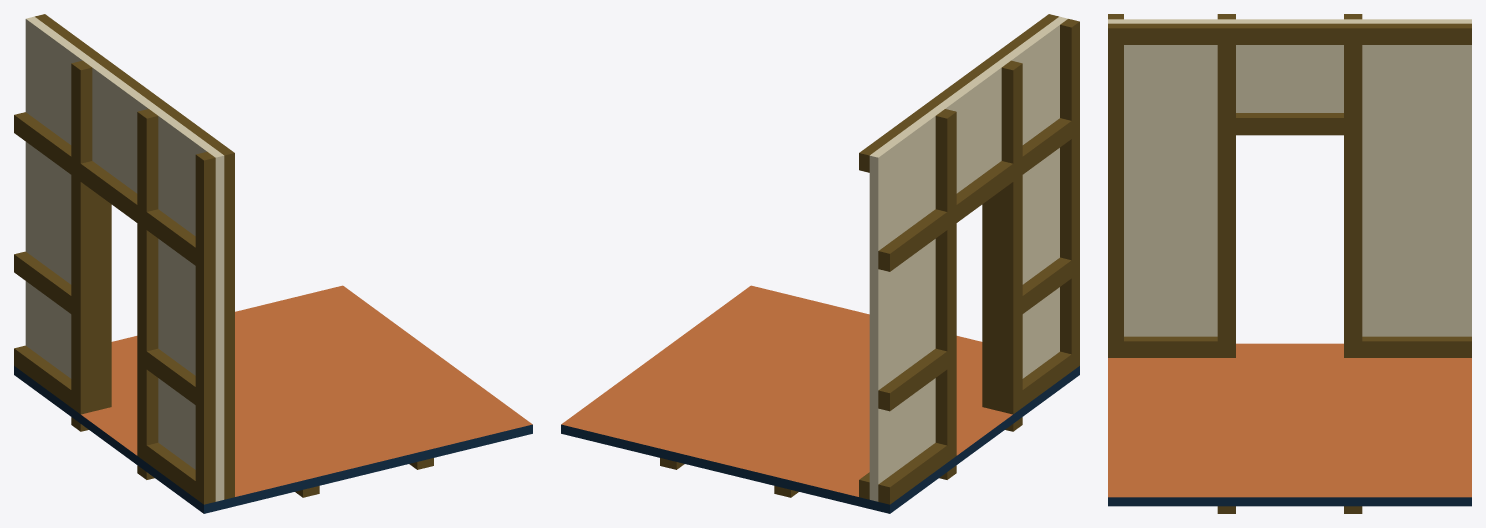
Rendered from DoorwayWF.fbx.
The picture shows the model from 3 angles, left to right: view 1: azimuth 30°, elevation 25°; view 2: azimuth 150°, elevation 25°; view 3: azimuth 270°, elevation 25°; orthographic projection. The views are drawn at different scales.
Parts seen in each view (by area): view 1: pCube127; view 2: pCube127; view 3: pCube127.
Boxes of the visible parts, left/top/right/bottom form: pCube127: left=14, top=14, right=532, bottom=513; pCube127: left=561, top=14, right=1079, bottom=513; pCube127: left=1108, top=14, right=1471, bottom=513.
Size of the model in its own units: 3 by 3.15 by 3.
